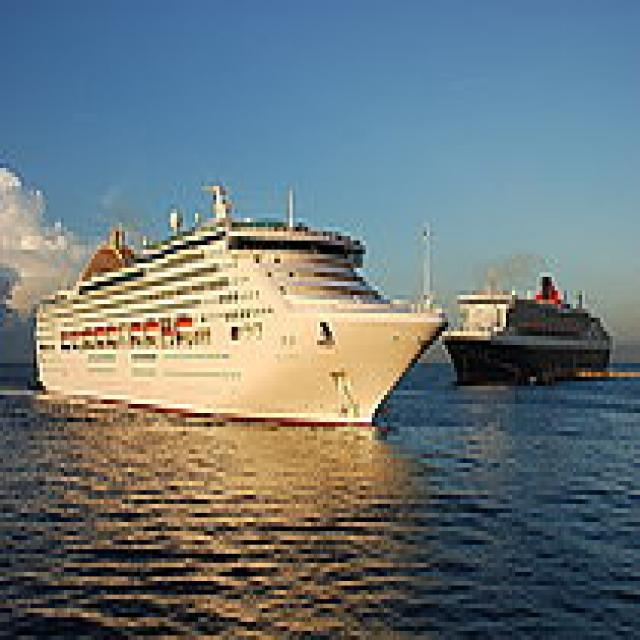Ship: (22, 169, 455, 446), (437, 255, 626, 405)
